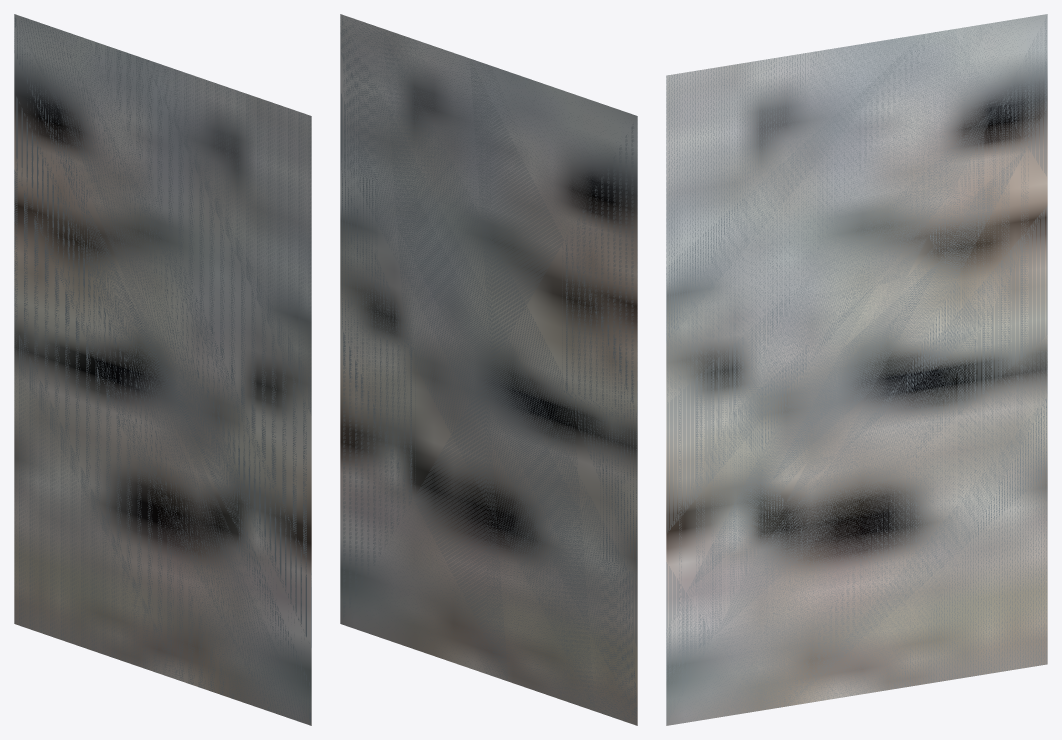
The model's file is 西庸城堡393.dae.
3 views of the same model, side by side, from view 1: azimuth 30°, elevation 25°; view 2: azimuth 210°, elevation 25°; view 3: azimuth 270°, elevation 25° (orthographic). The views are drawn at different scales.
Visible parts, largest first — view 1: SketchUp; view 2: SketchUp; view 3: SketchUp.
Part boxes in pixels (box(x1,y1,x2,y2)): SketchUp: box(14, 14, 311, 725); SketchUp: box(340, 14, 637, 725); SketchUp: box(666, 14, 1047, 725).
Size of the model in its own units: 10.55 by 27.62 by 51.97.
